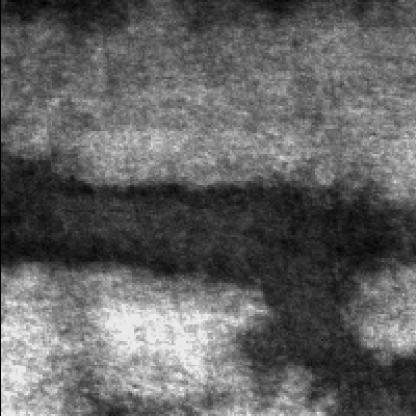patches: (4, 148, 416, 298), (246, 302, 416, 414)
